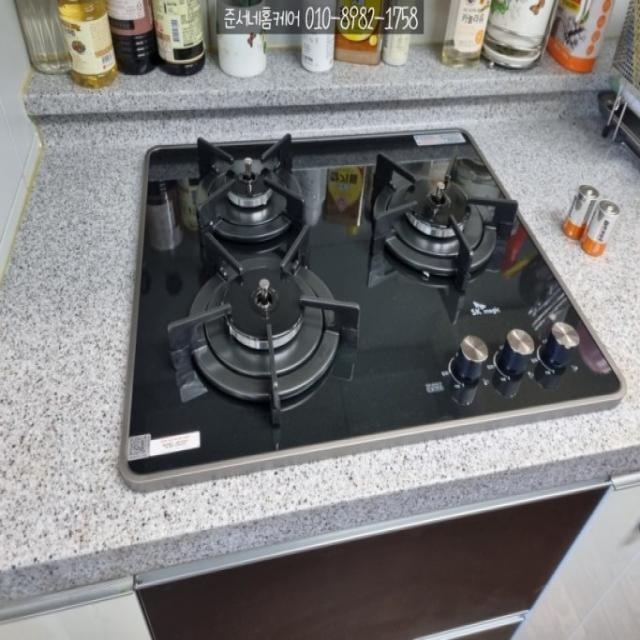knob_OFF: (344, 137, 569, 341), (179, 248, 395, 396), (140, 137, 334, 256)
